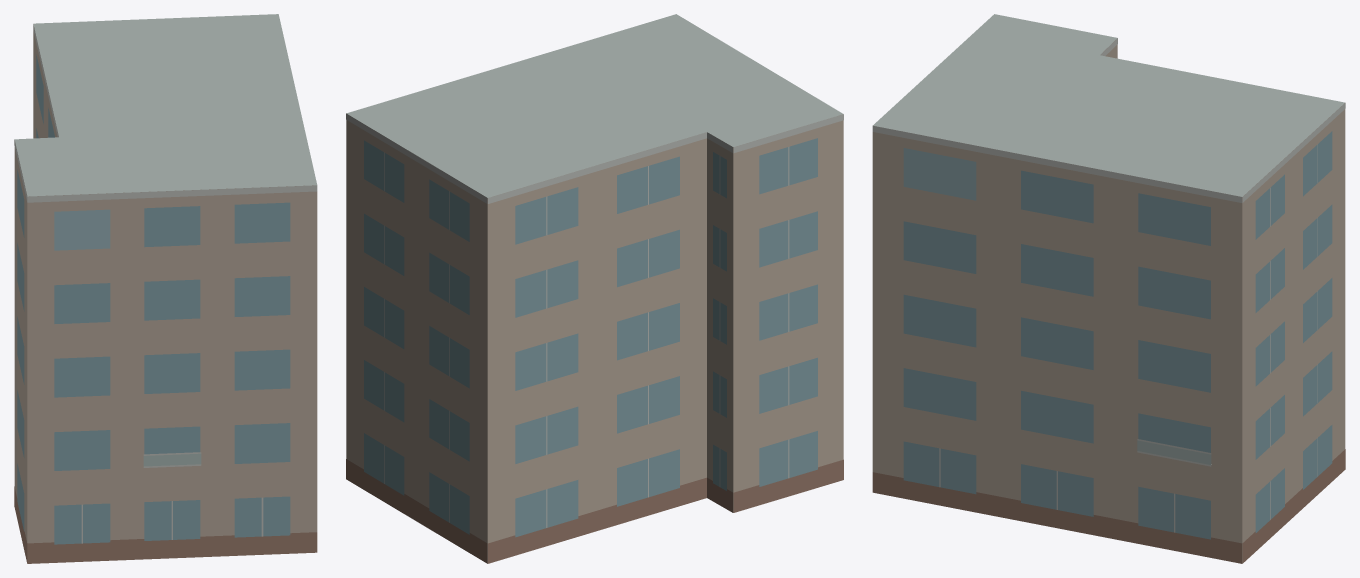
The model's file is survey-upis-32678952.glb.
3 renders of one model, left to right at view 1: azimuth 30°, elevation 25°; view 2: azimuth 150°, elevation 25°; view 3: azimuth 270°, elevation 25°, orthographic.
Visible parts, largest first — view 1: survey-upis-32678952.tmp; view 2: survey-upis-32678952.tmp; view 3: survey-upis-32678952.tmp.
Part boxes in pixels (x1,y1,x2,y2): survey-upis-32678952.tmp: (14, 14, 317, 563); survey-upis-32678952.tmp: (346, 14, 843, 563); survey-upis-32678952.tmp: (872, 14, 1345, 563).
Size of the model in its own units: 15.41 by 14.4 by 16.82.
